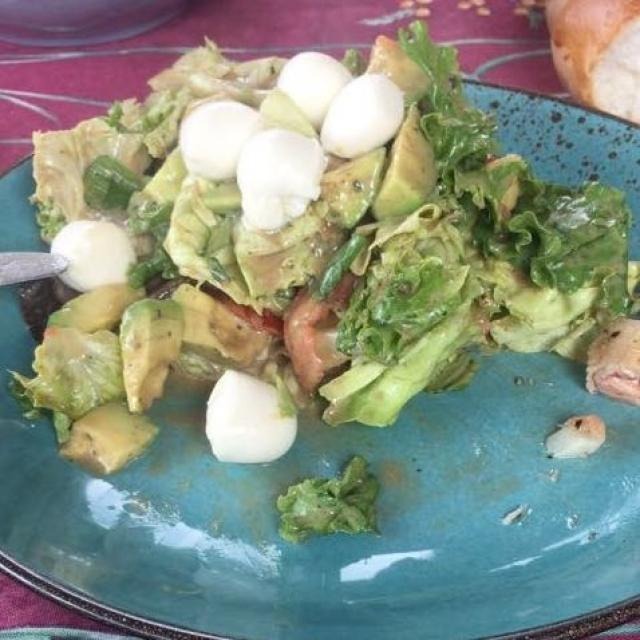avocado: (49, 29, 446, 488)
cheese: (41, 43, 436, 478)
salad: (28, 27, 622, 542)
tomato: (228, 275, 362, 400)
